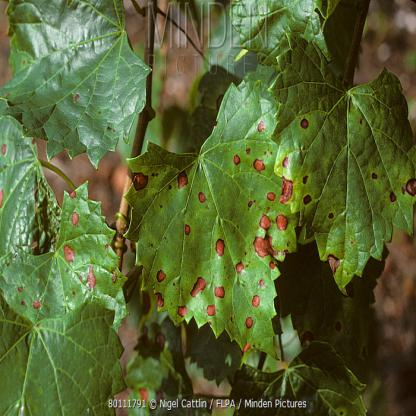grape leaf black rot: (119, 75, 294, 359), (266, 46, 414, 296), (7, 1, 144, 171), (1, 177, 125, 352)
